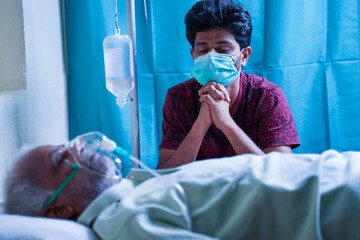family member: (162, 4, 280, 148)
patient: (3, 130, 154, 219)
